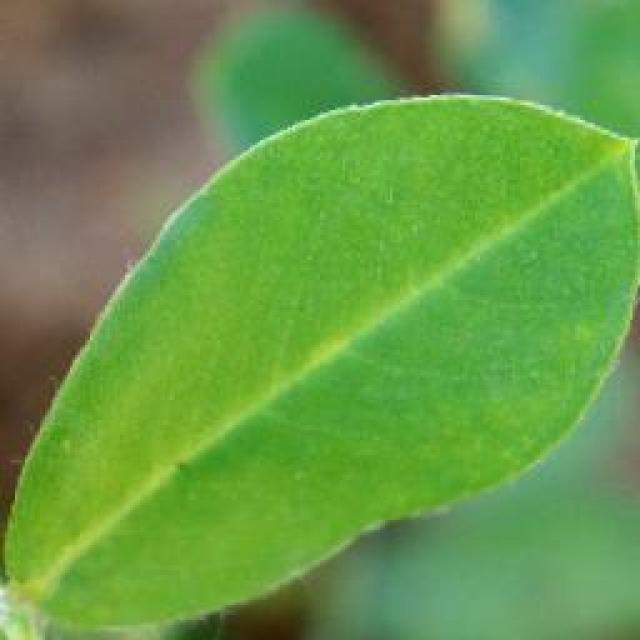Yellow_and_black_sigatoka: (39, 101, 594, 534)
